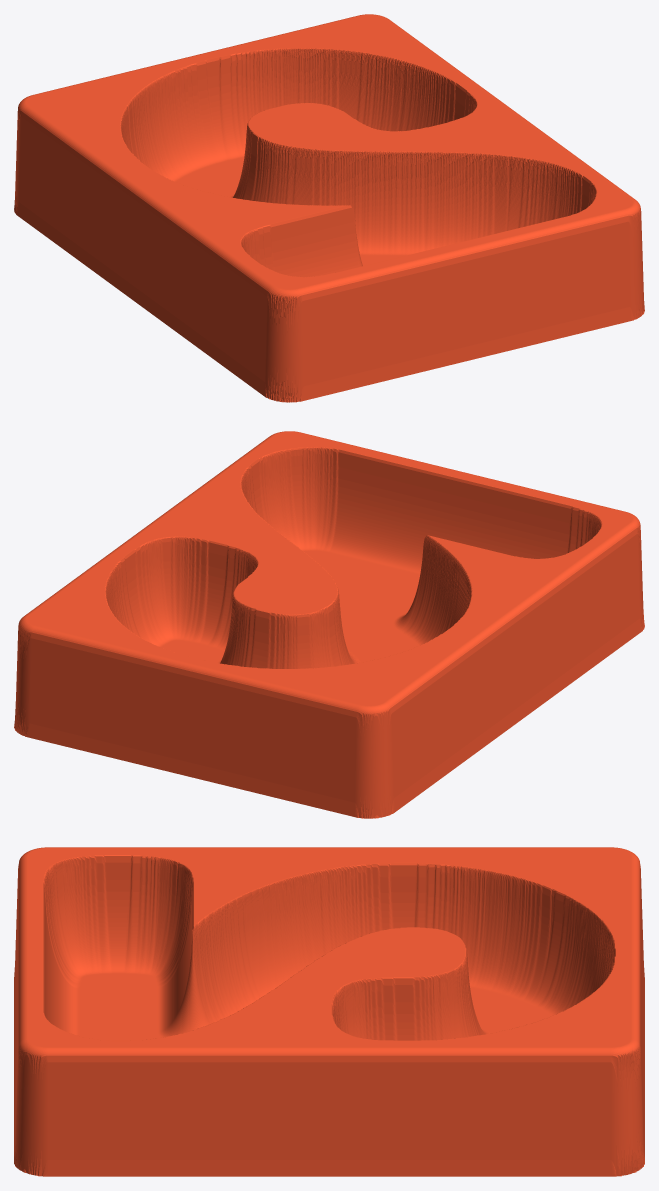
Rendered from mold.glb.
3 views of the same model, one above another, from view 1: azimuth 30°, elevation 25°; view 2: azimuth 150°, elevation 25°; view 3: azimuth 270°, elevation 25° (orthographic). The views are drawn at different scales.
Parts seen in each view (by area): view 1: geometry_0; view 2: geometry_0; view 3: geometry_0.
Boxes of the visible parts, left/top/right/bottom form: geometry_0: left=14, top=14, right=644, bottom=402; geometry_0: left=14, top=431, right=644, bottom=818; geometry_0: left=14, top=847, right=644, bottom=1176.
Size of the model in its own units: 0.1334 by 0.0365 by 0.1689.
